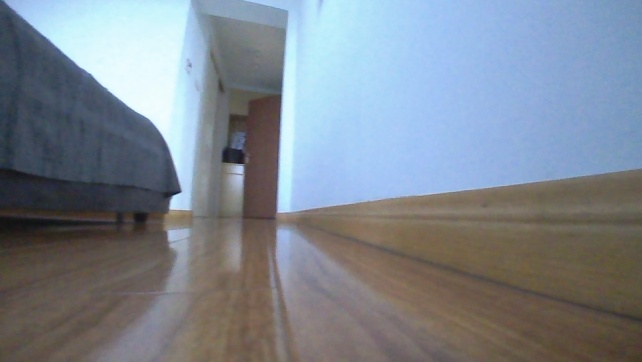door_anno: (240, 92, 283, 225)
sofa1: (0, 0, 182, 226)
